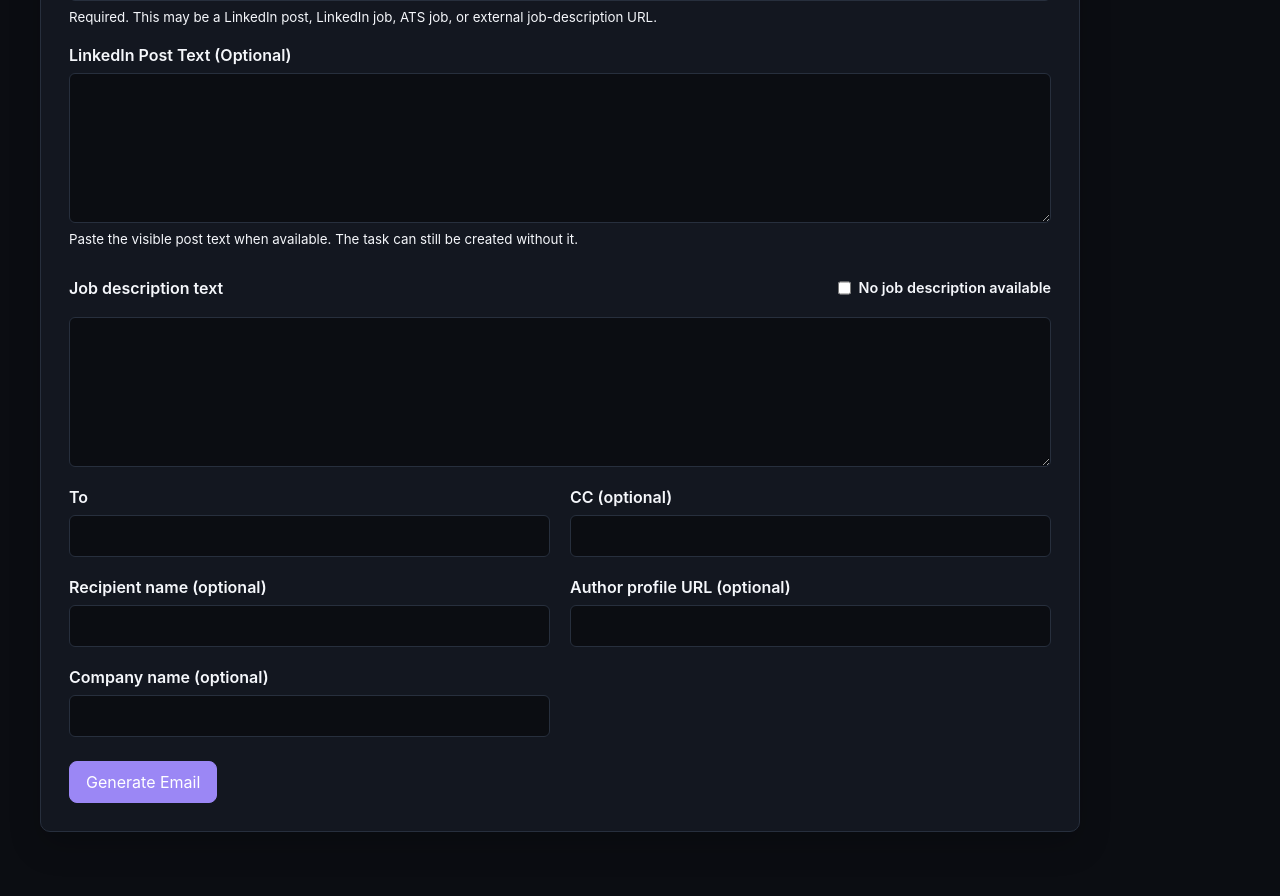
Scenario: OutreachPage › validates required outreach inputs
(page scrolled)
Click the button "Generate Email" at coordinates (143, 782), box [69,761,217,803]
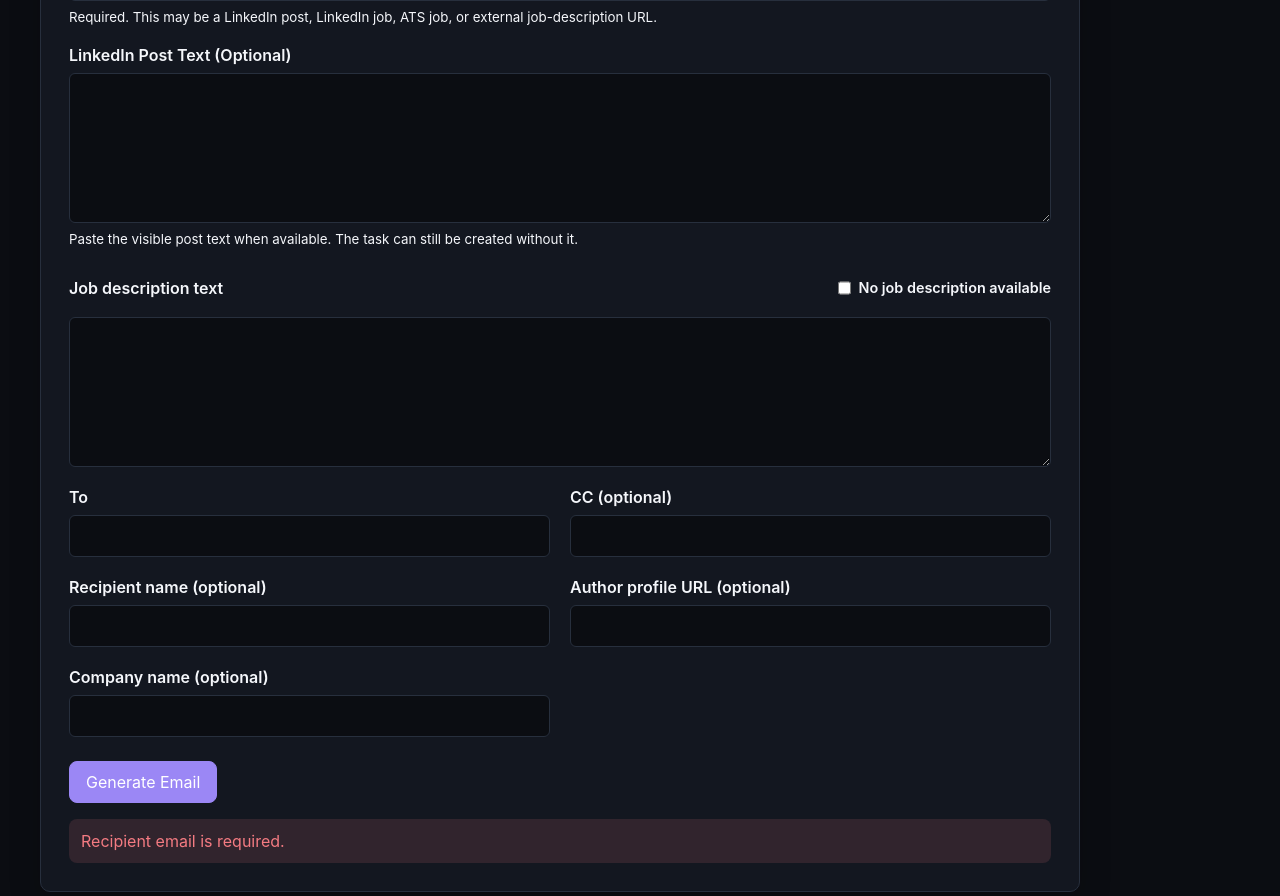
Expected: the message reads "Recipient email is required.", [81,831,285,851]
